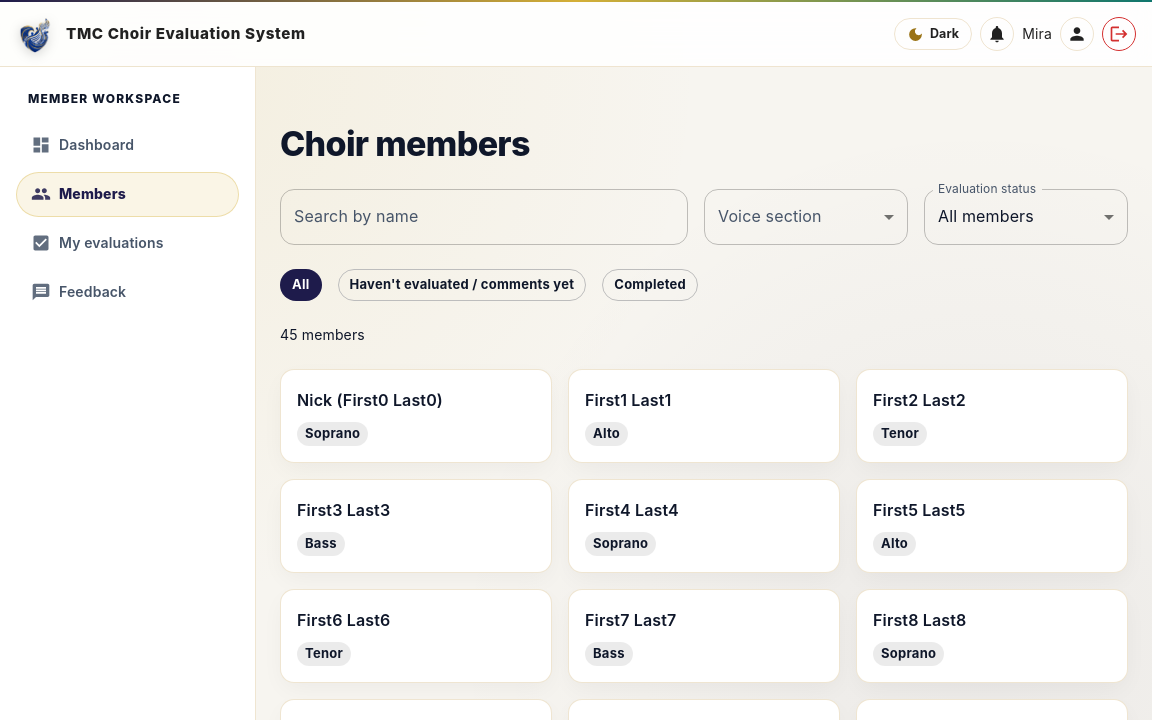
Test case: MemberDirectoryPage › filters by voice section
Expected: the heading "Nick (First0 Last0)" is shown, [297,390,443,410]
Click the dropdown named "voice section" at (806,217), box [704,189,908,245]
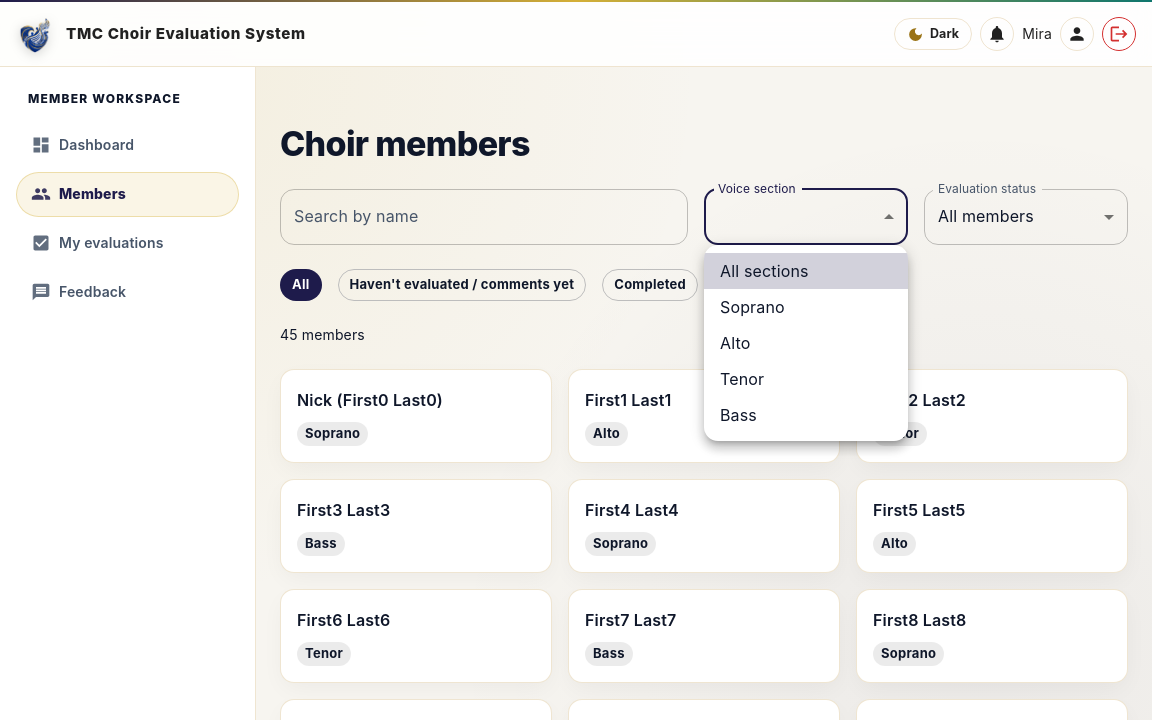
Click the option "Bass" at (738,415), box [720,405,757,425]
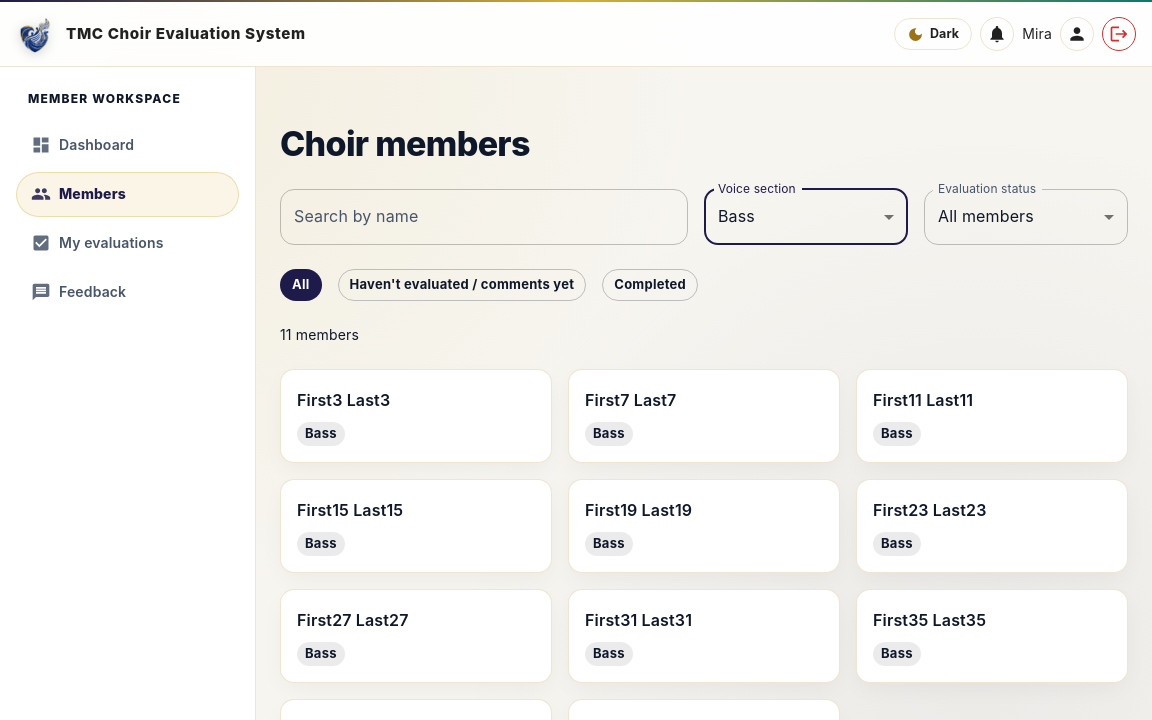
Expected: the text "11 members" is shown, [280,326,359,343]
